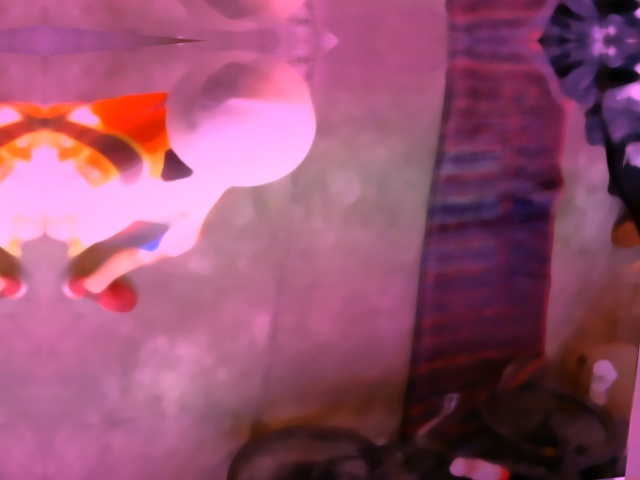eight: (196, 59, 244, 113)
